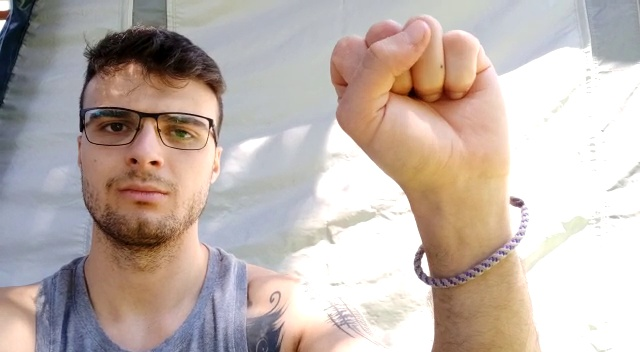Fist: (314, 7, 534, 196)
